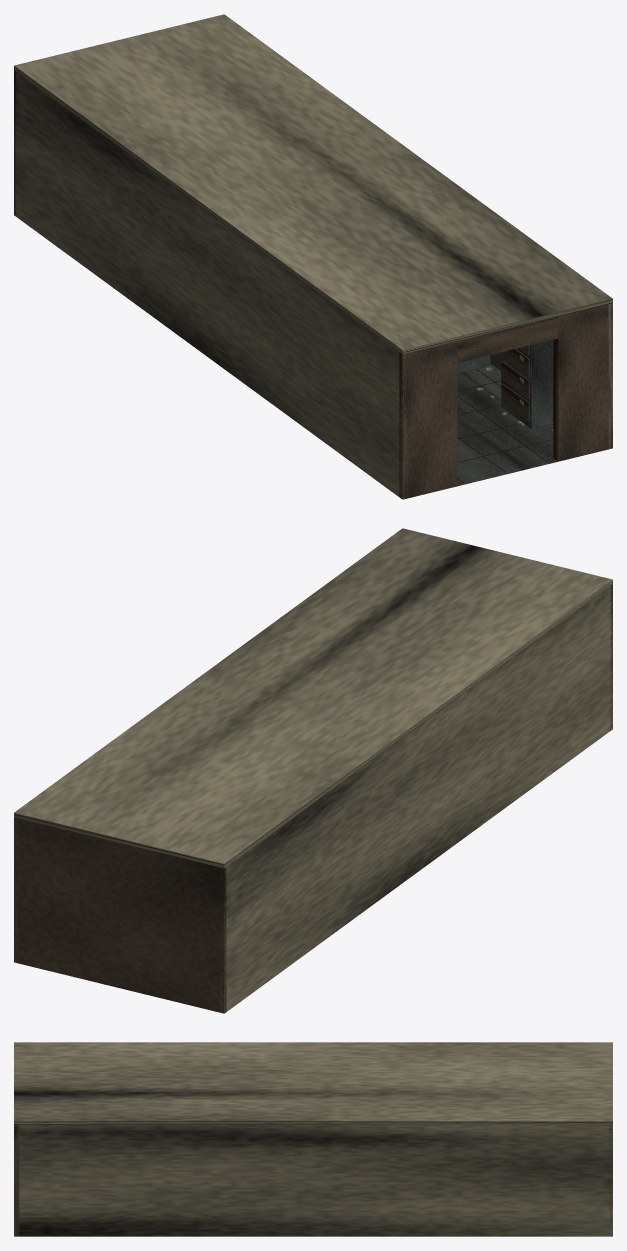
Rendered from vault.glb.
3 views of the same model, one above another, from view 1: azimuth 30°, elevation 25°; view 2: azimuth 150°, elevation 25°; view 3: azimuth 270°, elevation 25° (orthographic). The views are drawn at different scales.
Visible parts, largest first — view 1: static-plaster, static-paint, static-stone, static-metal; view 2: static-plaster, static-paint; view 3: static-plaster, static-paint.
Boxes of the visible parts, x1=… form: static-plaster: x1=14, y1=14, x2=612, y2=499; static-paint: x1=14, y1=70, x2=612, y2=499; static-stone: x1=457, y1=364, x2=557, y2=486; static-metal: x1=457, y1=340, x2=553, y2=429; static-plaster: x1=14, y1=528, x2=612, y2=1013; static-paint: x1=14, y1=584, x2=612, y2=1013; static-plaster: x1=14, y1=1042, x2=612, y2=1236; static-paint: x1=14, y1=1124, x2=612, y2=1236.
Size of the model in its own units: 5 by 3.4 by 16.
Materials: 13 (9 with a texture image).
